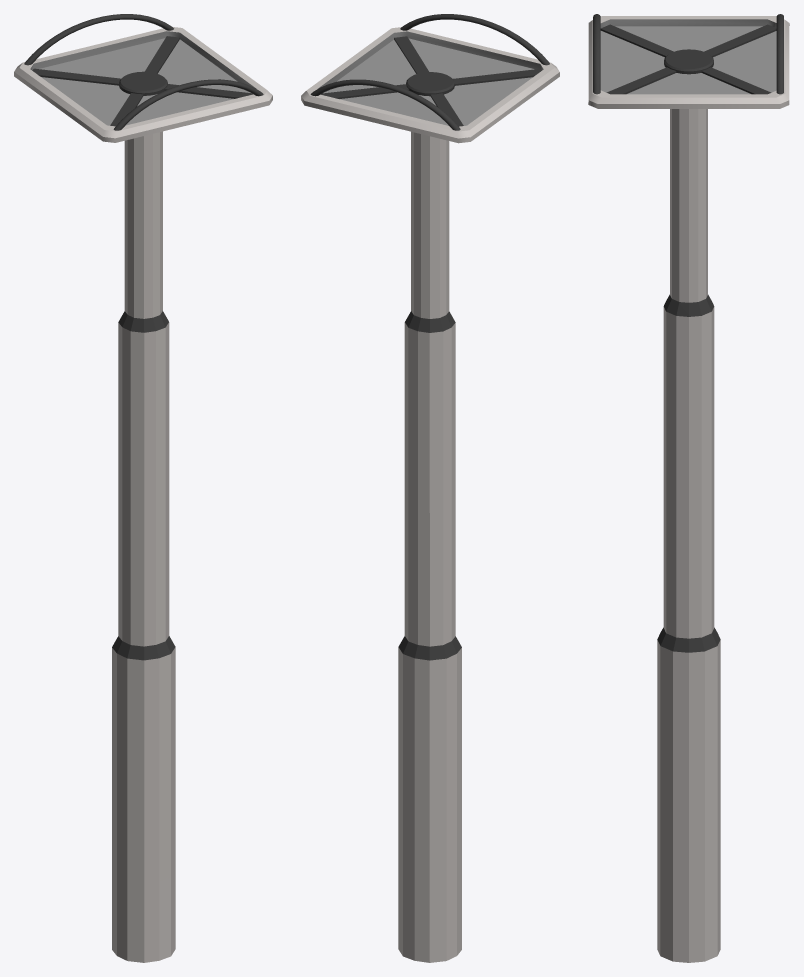
File: piston_lift.obj
The picture shows the model from 3 angles, left to right: view 1: azimuth 30°, elevation 25°; view 2: azimuth 150°, elevation 25°; view 3: azimuth 270°, elevation 25°; orthographic projection. The views are drawn at different scales.
Visible parts, largest first — view 1: victory_lift.mdl/victory_lift.smd; view 2: victory_lift.mdl/victory_lift.smd; view 3: victory_lift.mdl/victory_lift.smd.
Boxes of the visible parts, <box> form: victory_lift.mdl/victory_lift.smd: <box>14,14,272,962</box>; victory_lift.mdl/victory_lift.smd: <box>301,14,559,962</box>; victory_lift.mdl/victory_lift.smd: <box>588,14,789,962</box>.
Bounding box in the file's own units: 1.98 × 10.03 × 1.98.
